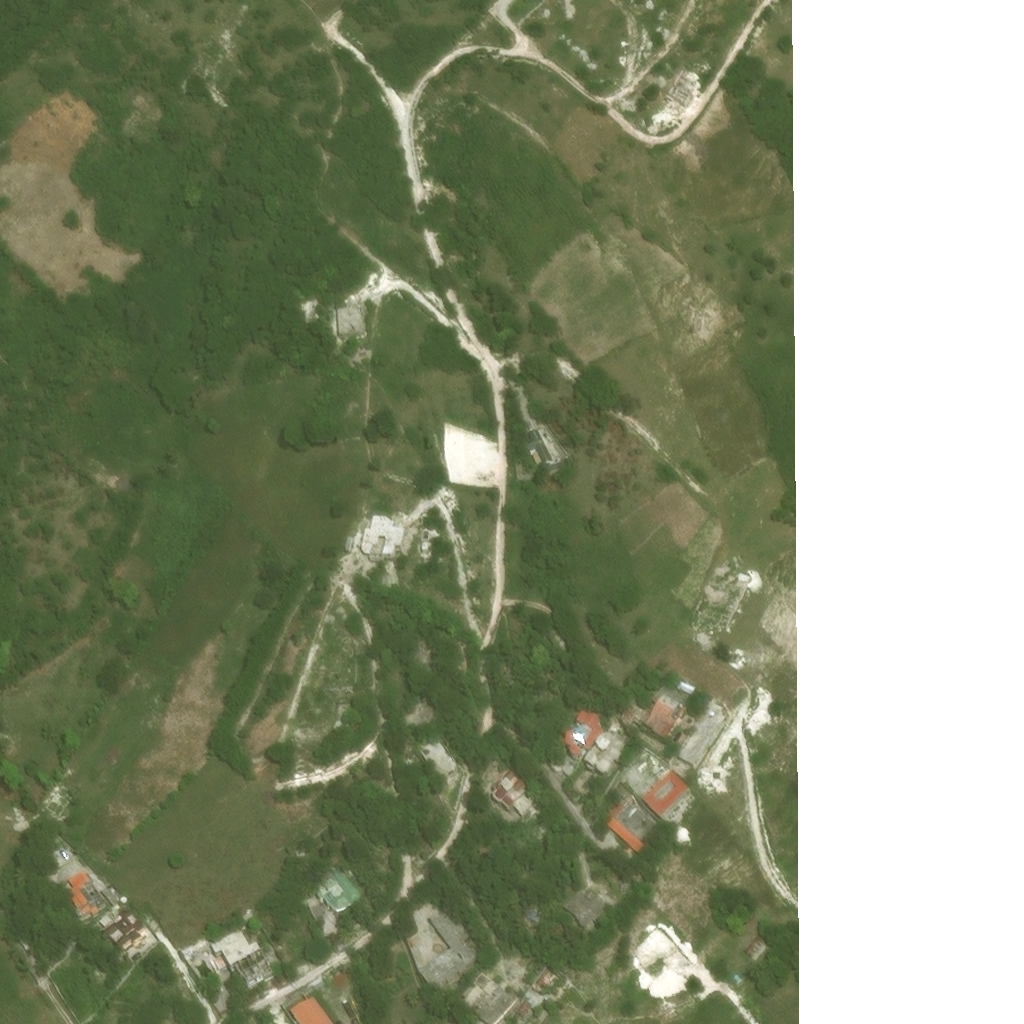destroyed: (686, 721, 735, 789)
minor_damage: (416, 905, 481, 985), (650, 702, 701, 760), (465, 985, 517, 1023), (566, 899, 612, 941), (522, 418, 557, 458), (342, 319, 371, 350), (537, 978, 561, 1002), (741, 928, 764, 952), (473, 975, 493, 993), (557, 449, 570, 460), (464, 990, 475, 1003), (350, 549, 359, 563), (731, 969, 738, 976)
no_damage: (650, 788, 700, 838), (563, 710, 605, 759), (108, 919, 152, 961), (609, 829, 651, 871), (421, 741, 458, 782), (69, 868, 102, 912), (290, 993, 333, 1023), (333, 877, 363, 918), (490, 766, 522, 803), (596, 750, 620, 777), (651, 843, 671, 867), (657, 794, 679, 815), (684, 700, 706, 716), (608, 733, 627, 749), (526, 910, 540, 927), (526, 1008, 541, 1022), (84, 910, 94, 919), (94, 912, 102, 921), (16, 932, 24, 940)
unclassified: (411, 705, 442, 734), (499, 655, 521, 679), (544, 920, 561, 936), (554, 934, 570, 948), (11, 898, 20, 912), (624, 894, 633, 903), (248, 189, 257, 197), (9, 912, 17, 920), (21, 940, 28, 947)
